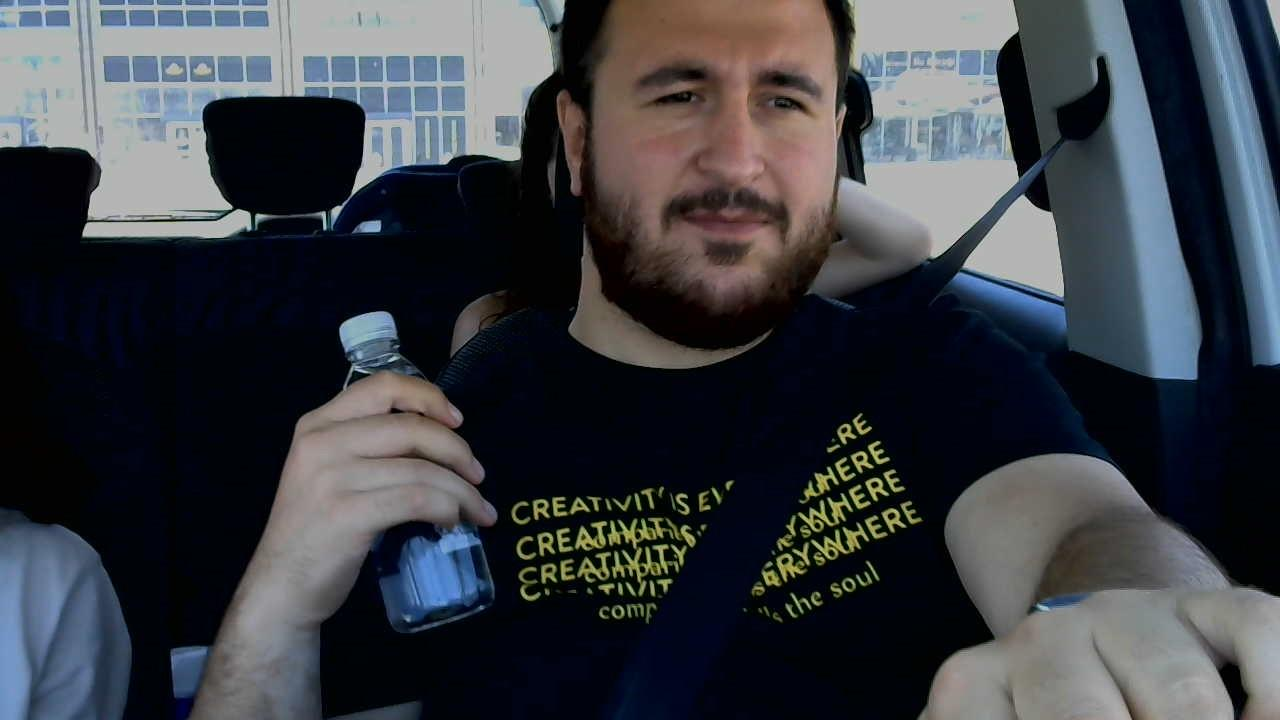Drinking: (335, 307, 496, 635)
